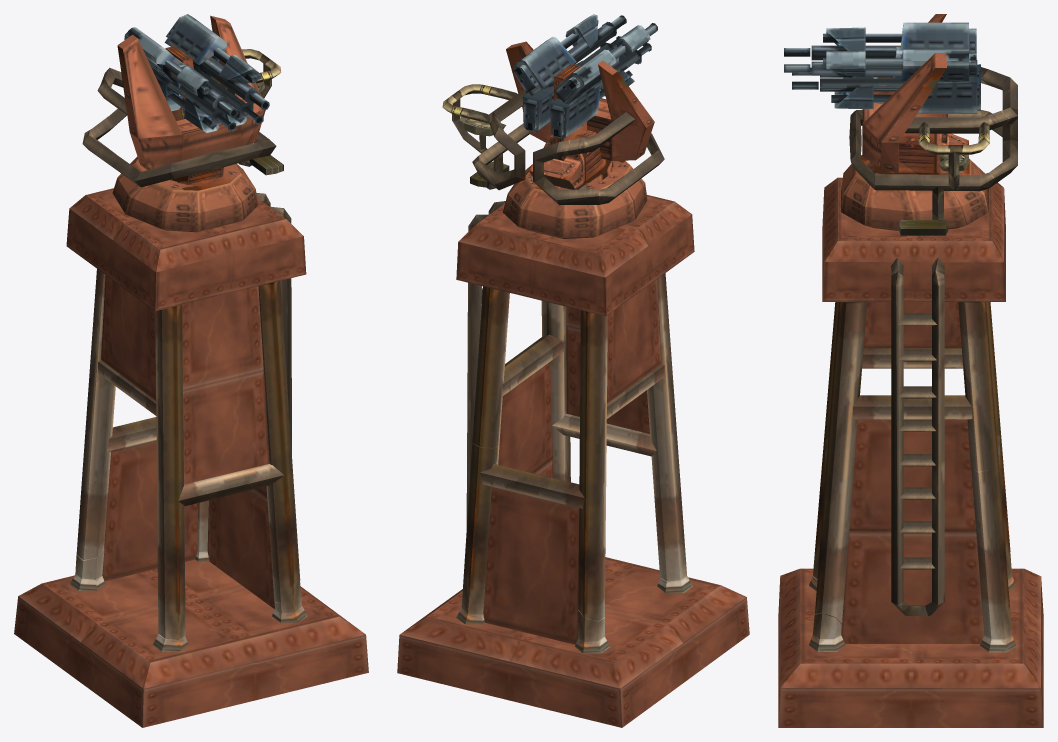
Rendered from C1SMAATOWERH.obj.
3 renders of one model, left to right at view 1: azimuth 30°, elevation 25°; view 2: azimuth 150°, elevation 25°; view 3: azimuth 270°, elevation 25°, orthographic. The views are drawn at different scales.
Visible parts, largest first — view 1: Node 0, Node 2, Node 9, Node 3, Node 6, Node 5, Node 11, Node 7, Node 12, Node 16, Node 18, Node 4 (+1 smaller); view 2: Node 0, Node 5, Node 9, Node 6, Node 2, Node 3, Node 11, Node 4, Node 12, Node 7, Node 18, Node 16; view 3: Node 0, Node 3, Node 9, Node 6, Node 4, Node 11, Node 2, Node 18, Node 14, Node 12, Node 5.
Boxes of the visible parts, left/top/right/bottom form: Node 0: left=14, top=500, right=368, bottom=727; Node 2: left=98, top=275, right=269, bottom=639; Node 9: left=82, top=15, right=283, bottom=232; Node 3: left=182, top=281, right=300, bottom=608; Node 6: left=66, top=188, right=306, bottom=311; Node 5: left=76, top=269, right=198, bottom=581; Node 11: left=124, top=14, right=226, bottom=110; Node 7: left=178, top=464, right=283, bottom=506; Node 12: left=195, top=48, right=269, bottom=110; Node 16: left=161, top=76, right=236, bottom=132; Node 18: left=163, top=60, right=237, bottom=117; Node 4: left=256, top=193, right=291, bottom=453; Node 0: left=397, top=443, right=749, bottom=727; Node 5: left=480, top=310, right=607, bottom=644; Node 9: left=442, top=41, right=664, bottom=238; Node 6: left=456, top=195, right=694, bottom=448; Node 2: left=566, top=273, right=686, bottom=581; Node 3: left=498, top=300, right=580, bottom=482; Node 11: left=514, top=36, right=615, bottom=138; Node 4: left=466, top=201, right=505, bottom=527; Node 12: left=560, top=14, right=626, bottom=64; Node 7: left=552, top=414, right=656, bottom=456; Node 18: left=609, top=23, right=657, bottom=67; Node 16: left=586, top=43, right=651, bottom=99; Node 0: left=778, top=463, right=1043, bottom=727; Node 3: left=815, top=302, right=984, bottom=643; Node 9: left=841, top=14, right=1017, bottom=235; Node 6: left=822, top=177, right=1005, bottom=471; Node 4: left=891, top=258, right=944, bottom=615; Node 11: left=892, top=22, right=980, bottom=113; Node 2: left=813, top=302, right=963, bottom=579; Node 18: left=784, top=27, right=901, bottom=60; Node 14: left=792, top=78, right=905, bottom=109; Node 12: left=784, top=50, right=903, bottom=76; Node 5: left=986, top=302, right=1010, bottom=552.
Bounding box in the file's own units: 4.56 × 11.86 × 4.48.
Materials: 15 (15 with a texture image).
